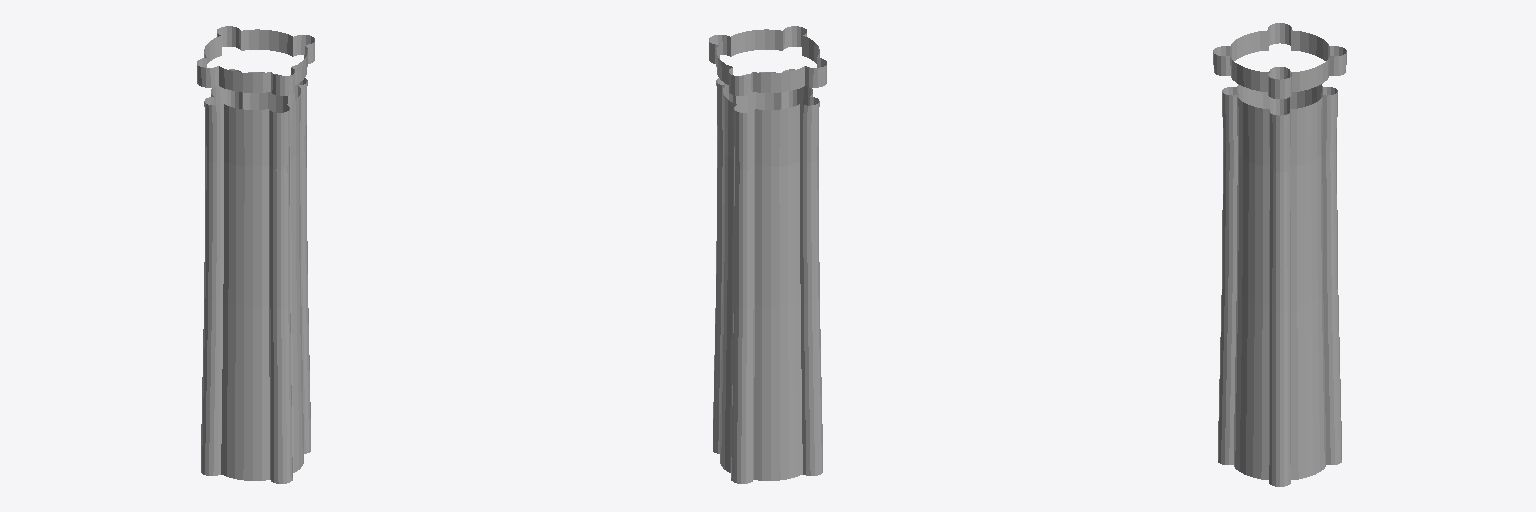
Rendered from pillar01a_arena.obj.
3 renders of one model, left to right at view 1: azimuth 30°, elevation 25°; view 2: azimuth 150°, elevation 25°; view 3: azimuth 270°, elevation 25°, orthographic.
Parts seen in each view (by area): view 1: pillar01a_arena; view 2: pillar01a_arena; view 3: pillar01a_arena.
Part boxes in pixels (bbox=[...]): pillar01a_arena: bbox=[197, 26, 314, 483]; pillar01a_arena: bbox=[709, 26, 826, 483]; pillar01a_arena: bbox=[1213, 23, 1346, 486].
Size of the model in its own units: 2.18 by 7.37 by 2.18.